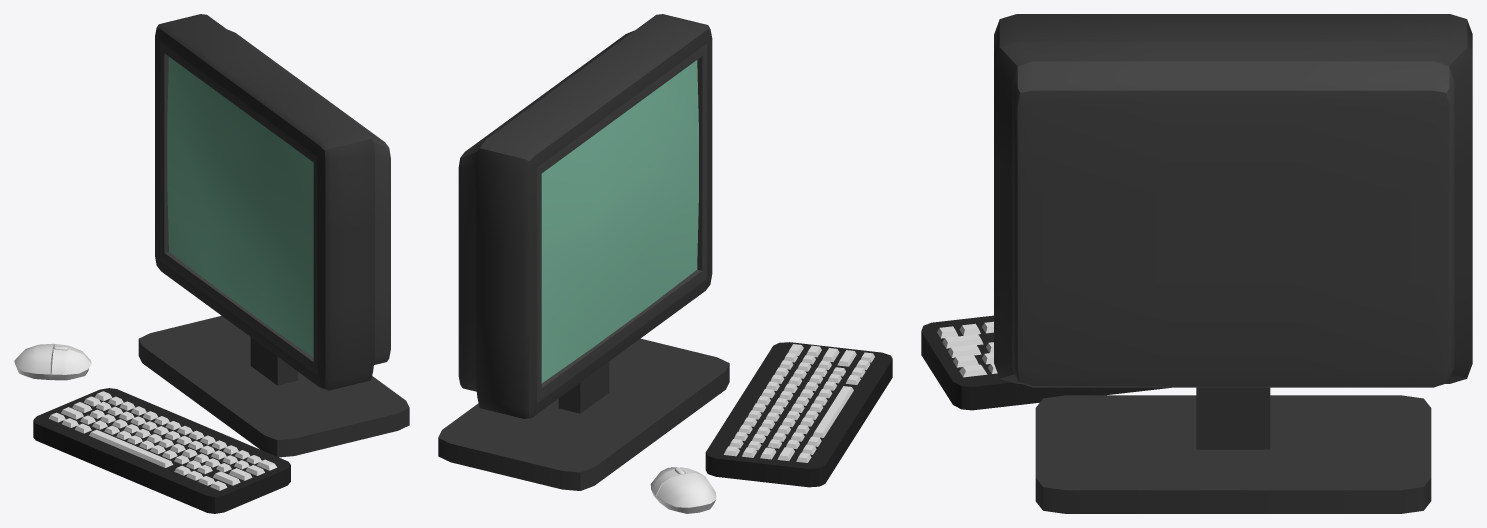
File: OBJ_Computer3.fbx
The picture shows the model from 3 angles, left to right: view 1: azimuth 30°, elevation 25°; view 2: azimuth 150°, elevation 25°; view 3: azimuth 270°, elevation 25°; orthographic projection. The views are drawn at different scales.
Parts seen in each view (by area): view 1: Box087, Box105, Box220, Box123; view 2: Box087, Box105, Box220, Box123; view 3: Box087, Box105.
Boxes of the visible parts, x1=… form: Box087: x1=138, y1=14, x2=409, y2=457; Box105: x1=33, y1=388, x2=290, y2=513; Box220: x1=14, y1=343, x2=91, y2=380; Box123: x1=89, y1=429, x2=173, y2=467; Box087: x1=438, y1=14, x2=729, y2=490; Box105: x1=705, y1=342, x2=892, y2=487; Box220: x1=650, y1=467, x2=716, y2=513; Box123: x1=812, y1=386, x2=853, y2=437; Box087: x1=994, y1=14, x2=1472, y2=513; Box105: x1=921, y1=315, x2=1171, y2=410.
Size of the model in its own units: 21.06 by 20.97 by 24.25.
